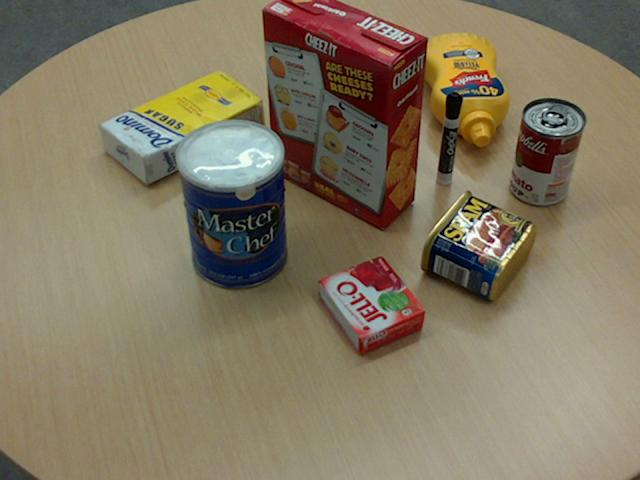cracker_box: (261, 0, 426, 228)
gelatin_box: (319, 255, 425, 353)
large_marker: (436, 92, 462, 184)
master_chef_can: (175, 119, 286, 289)
mug: (314, 33, 391, 125)
mustard_bottle: (418, 32, 508, 146)
potted_meat_can: (419, 188, 534, 299)
sugar_box: (98, 68, 264, 183)
tomato_soup_can: (509, 97, 585, 205)
tuna_fish_can: (349, 23, 412, 78)
